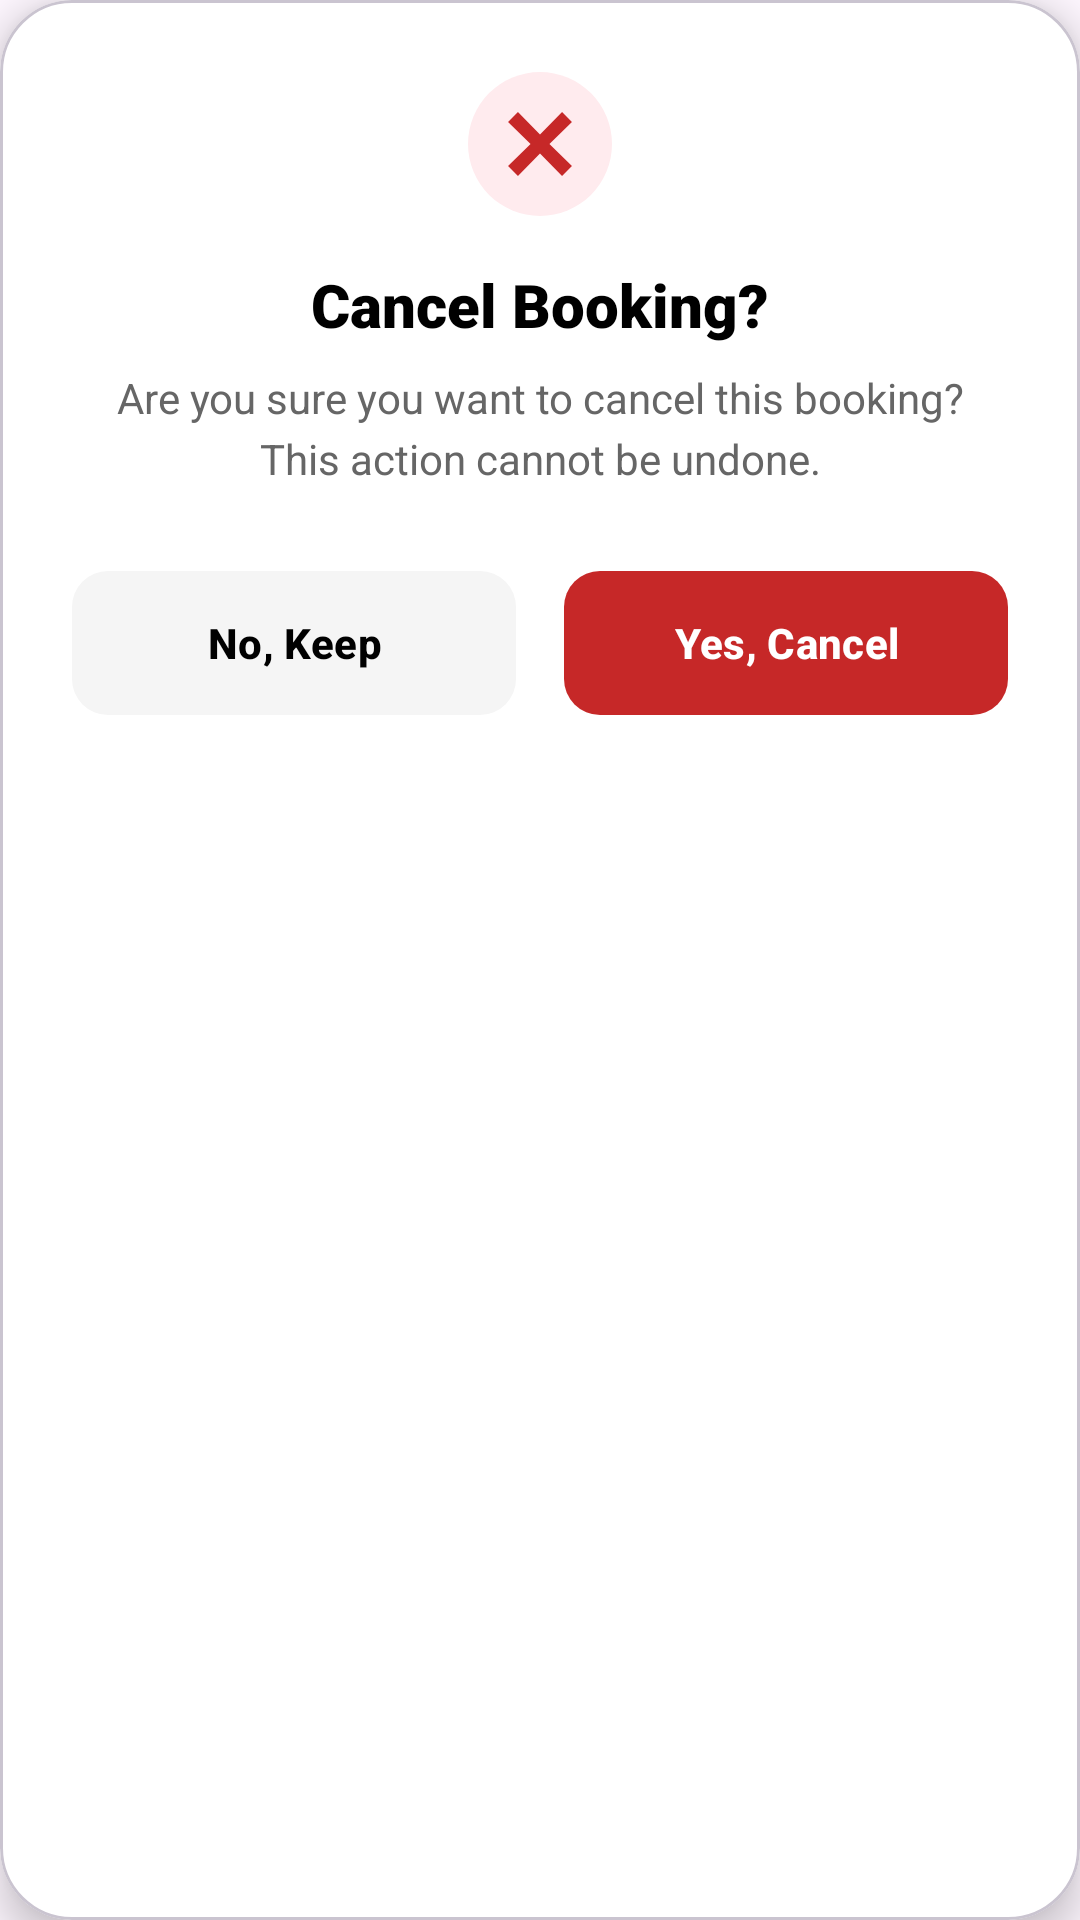

Icons on this 1080×1920 Android screen, each with the point to tap as (x=x, y=y):
close: (x=540, y=144)
